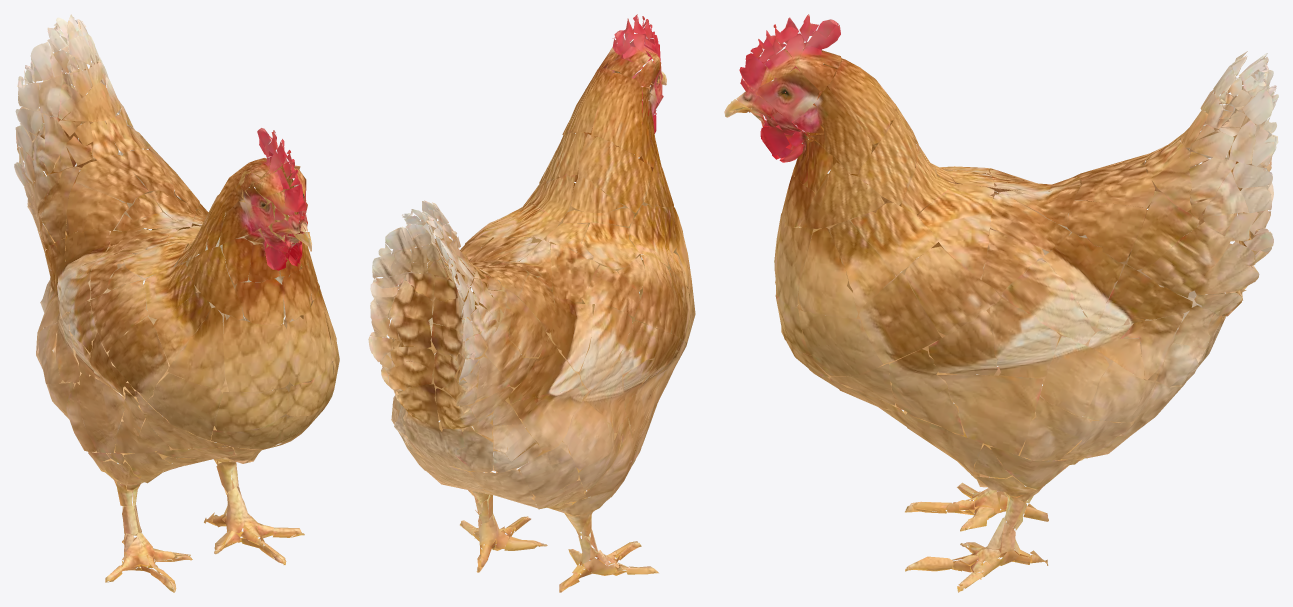
The model's file is hen.glb.
3 views of the same model, side by side, from view 1: azimuth 30°, elevation 25°; view 2: azimuth 150°, elevation 25°; view 3: azimuth 270°, elevation 25° (orthographic). The views are drawn at different scales.
Visible parts, largest first — view 1: Mesh_0; view 2: Mesh_0; view 3: Mesh_0.
Boxes of the visible parts, left/top/right/bottom form: Mesh_0: left=14, top=14, right=339, bottom=592; Mesh_0: left=368, top=14, right=695, bottom=592; Mesh_0: left=724, top=14, right=1278, bottom=592.
Bounding box in the file's own units: 0.1832 × 0.3994 × 0.3785.
1 material, 1 textured.
